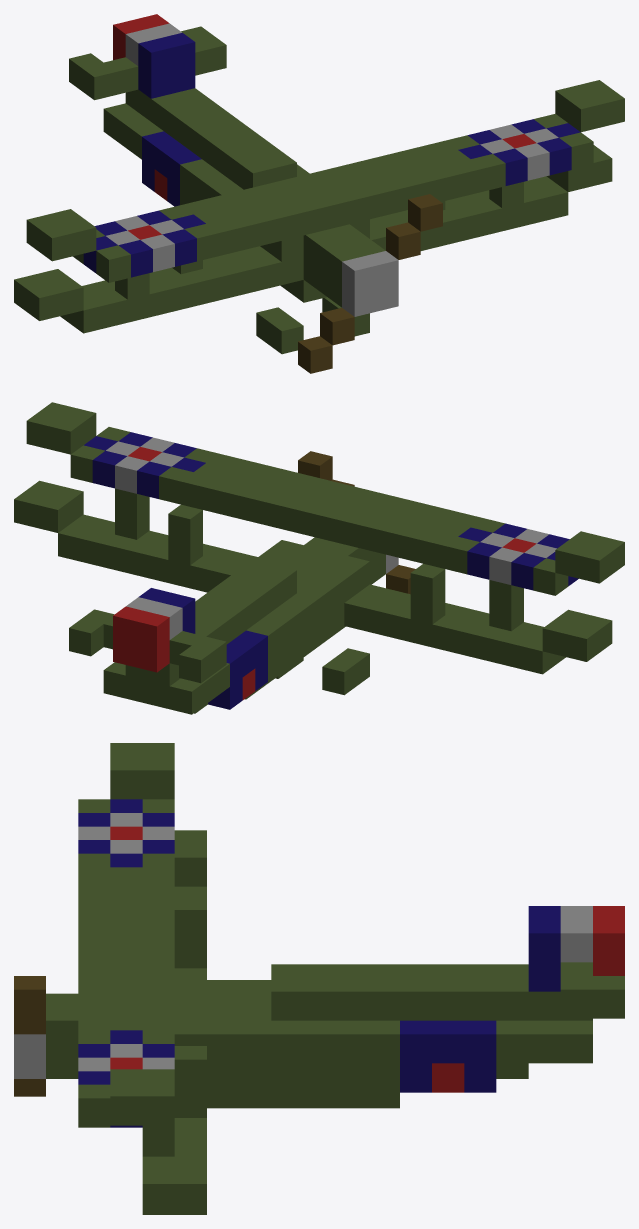
File: Testmodel_sopwith camel.obj
3 views of the same model, one above another, from view 1: azimuth 30°, elevation 25°; view 2: azimuth 150°, elevation 25°; view 3: azimuth 270°, elevation 25° (orthographic). The views are drawn at different scales.
Visible parts, largest first — view 1: Testmodel_sopwith camel; view 2: Testmodel_sopwith camel; view 3: Testmodel_sopwith camel.
Part boxes in pixels (x1,y1,x2,y2): Testmodel_sopwith camel: (14, 14, 624, 373); Testmodel_sopwith camel: (14, 402, 624, 714); Testmodel_sopwith camel: (14, 743, 624, 1214).
Size of the model in its own units: 26 by 8 by 19.
1 material, 1 textured.
